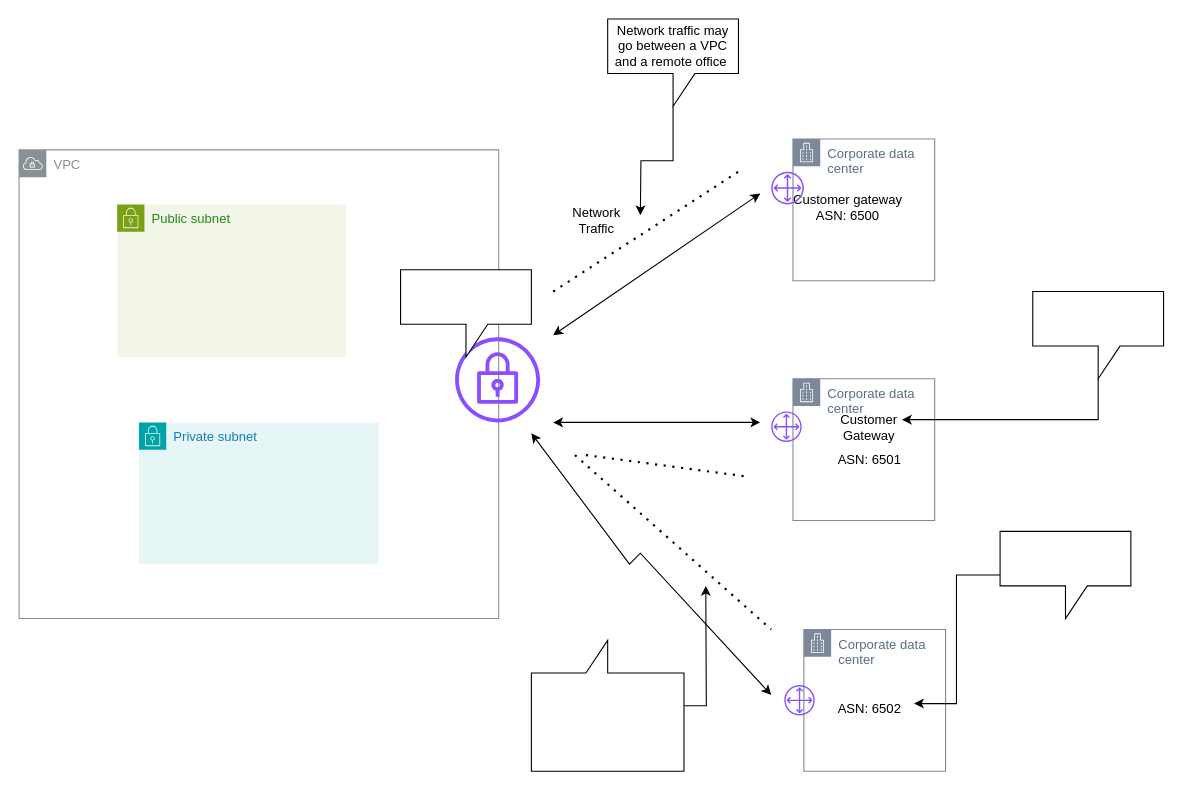
This 1183x790 diagram has some shape labels left out. The centre of each missing label's shape, as x and y in pixels:
A VGW is deployed on the AWS site: the point at 465,313
Each office must use a unique BGP ASN: the point at 1065,574
Network traffic between offices can also be routed over the IPSEC VPN: the point at 607,705
Remote officers connect VGW in a hub and spoke model: the point at 1098,334
